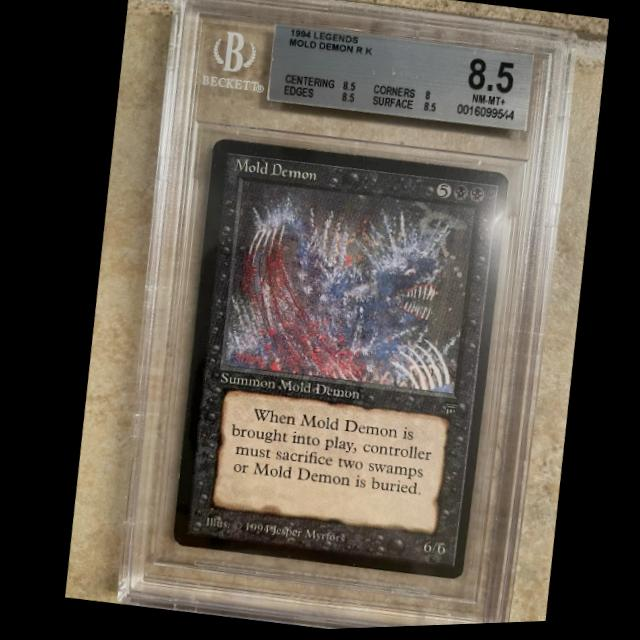bgs_label: (265, 25, 533, 135)
bgs_slab: (108, 0, 578, 631)
card: (165, 139, 507, 584)
